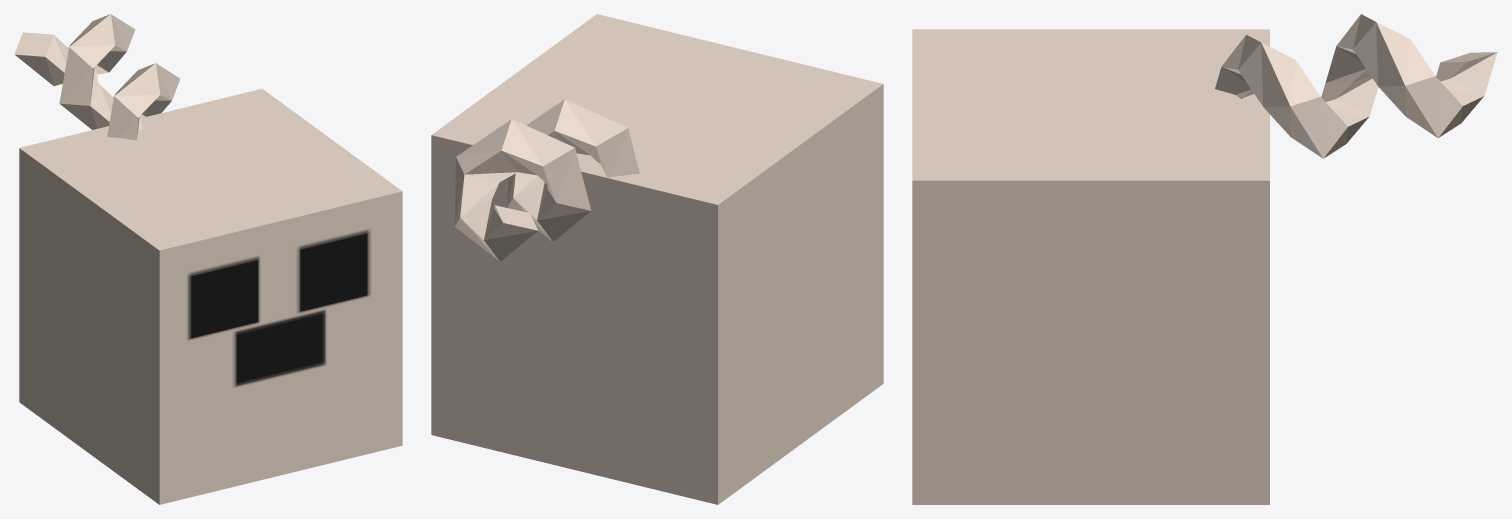
The model's file is pigSkeleton.fbx.
3 renders of one model, left to right at view 1: azimuth 30°, elevation 25°; view 2: azimuth 150°, elevation 25°; view 3: azimuth 270°, elevation 25°, orthographic. The views are drawn at different scales.
Visible parts, largest first — view 1: PigSkeleton; view 2: PigSkeleton; view 3: PigSkeleton.
Boxes of the visible parts, box(x1,y1,x2,y2) form: PigSkeleton: box(14, 14, 402, 504); PigSkeleton: box(431, 14, 883, 504); PigSkeleton: box(912, 14, 1497, 504).
Size of the model in its own units: 100 by 128 by 164.
